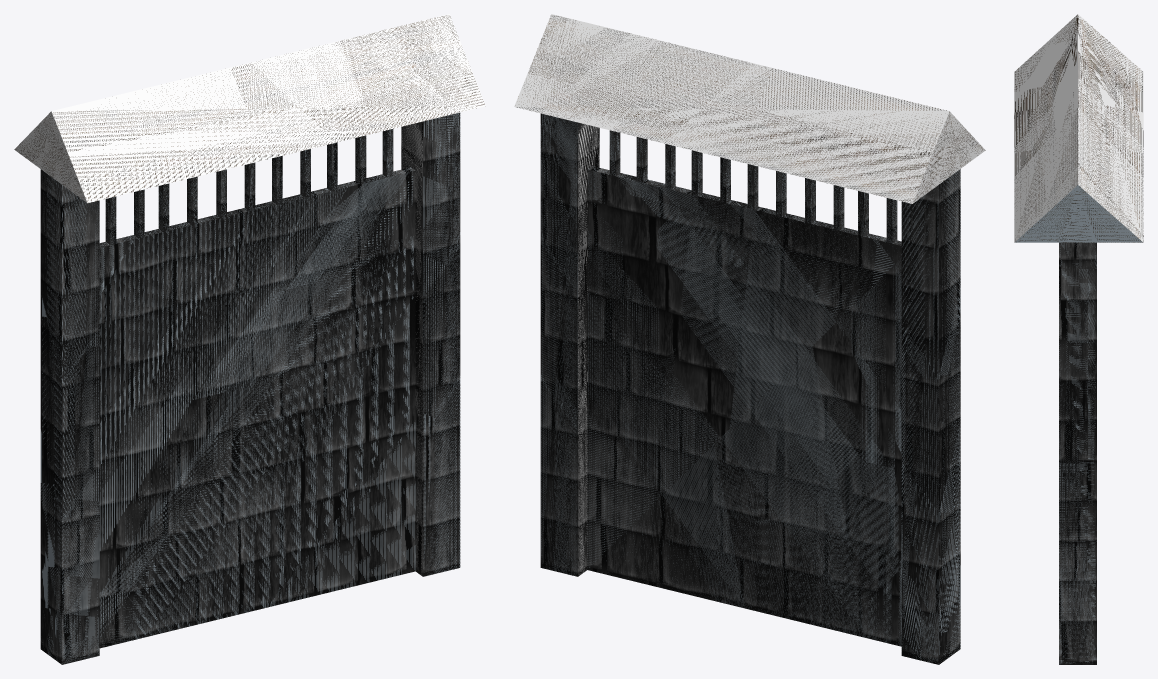
3 renders of one model, left to right at view 1: azimuth 30°, elevation 25°; view 2: azimuth 150°, elevation 25°; view 3: azimuth 270°, elevation 25°, orthographic. The views are drawn at different scales.
Parts seen in each view (by area): view 1: Model; view 2: Model; view 3: Model.
Part boxes in pixels (bbox=[...]): Model: bbox=[14, 14, 485, 664]; Model: bbox=[514, 14, 985, 664]; Model: bbox=[1014, 14, 1143, 664].
Size of the model in its own units: 57.15 by 74.84 by 18.24.
